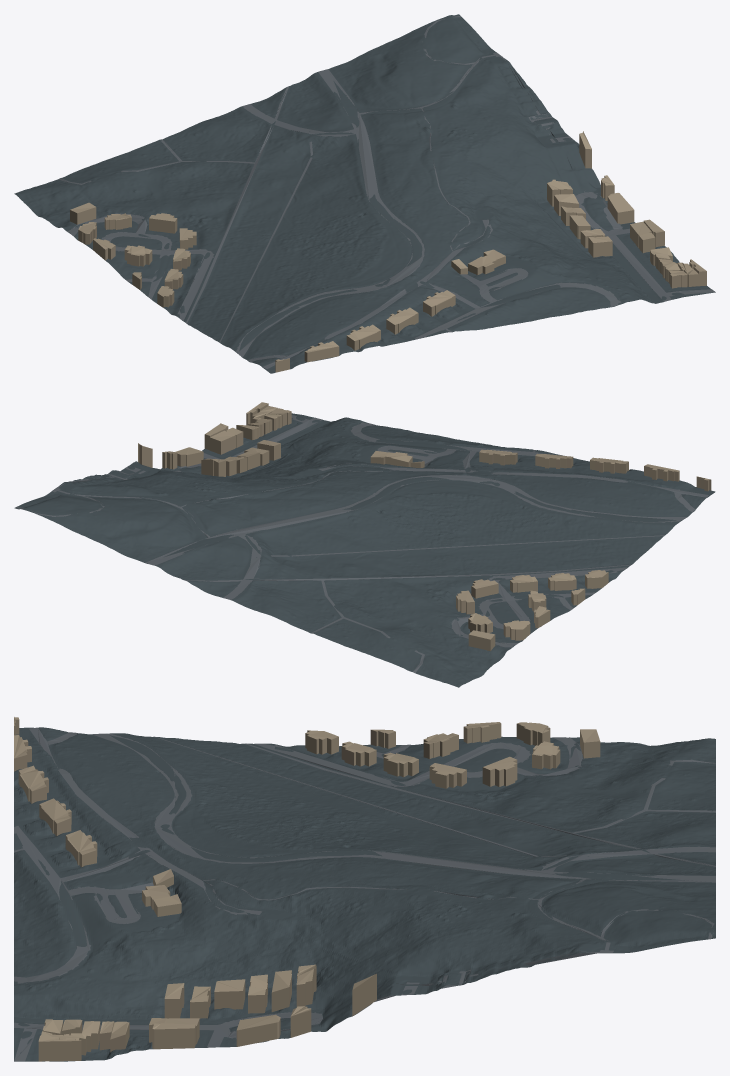
File: epsg26910-1428-10893.lod0.glb
The picture shows the model from 3 angles, top to bottom: view 1: azimuth 30°, elevation 25°; view 2: azimuth 150°, elevation 25°; view 3: azimuth 270°, elevation 25°; orthographic projection. The views are drawn at different scales.
Visible parts, largest first — view 1: epsg26910-1428-10893-lod0; view 2: epsg26910-1428-10893-lod0; view 3: epsg26910-1428-10893-lod0.
Part boxes in pixels (x1,y1,x2,y2): epsg26910-1428-10893-lod0: [14, 14, 715, 373]; epsg26910-1428-10893-lod0: [14, 402, 715, 687]; epsg26910-1428-10893-lod0: [14, 717, 715, 1061].
Size of the model in its own units: 384 by 75.33 by 384.
